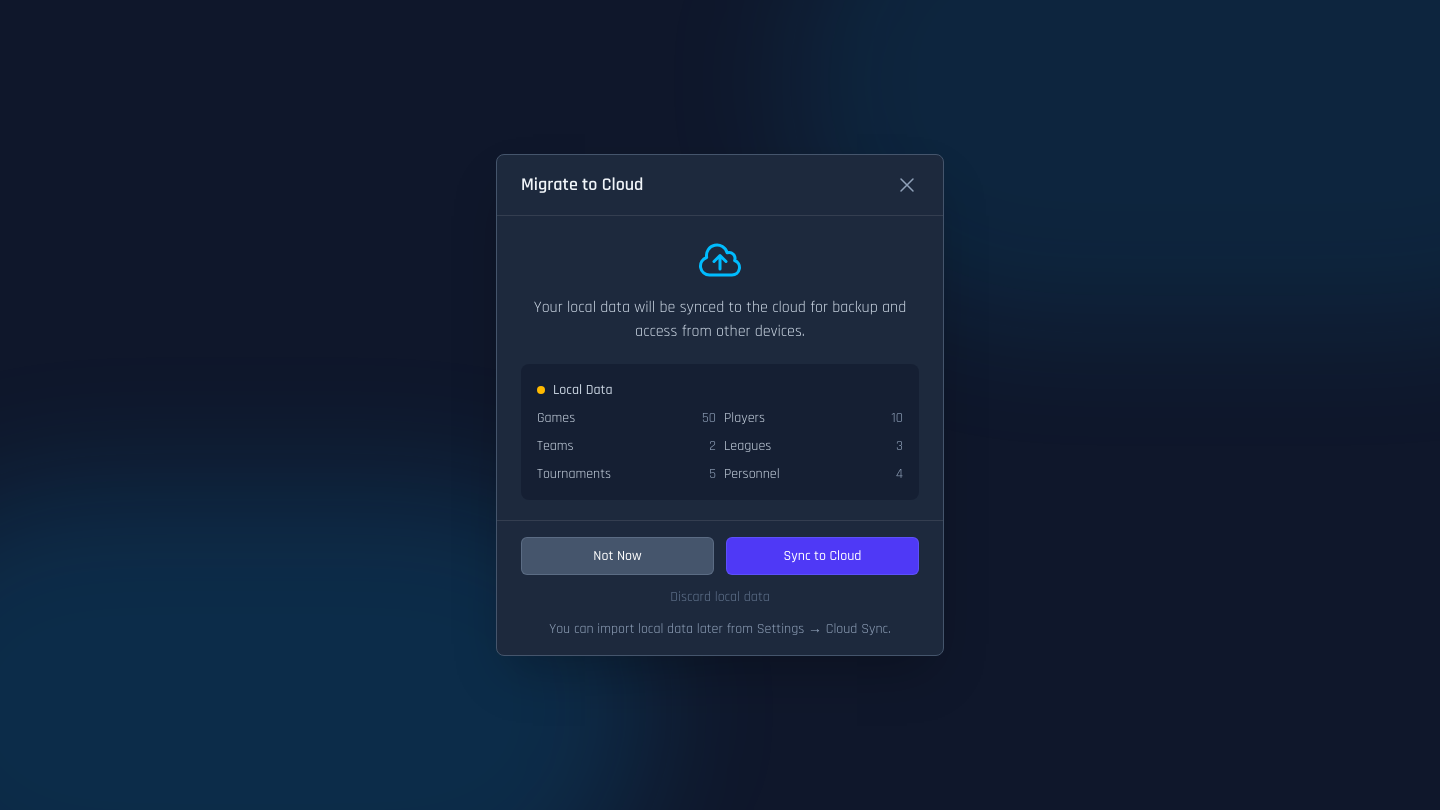
Scenario: MigrationWizard › shows complete step after successful migration
Expected: the heading "Local Data" is shown, [537,381,612,399]
Click the button "Sync to Cloud" at (822, 556), box [726,537,919,575]
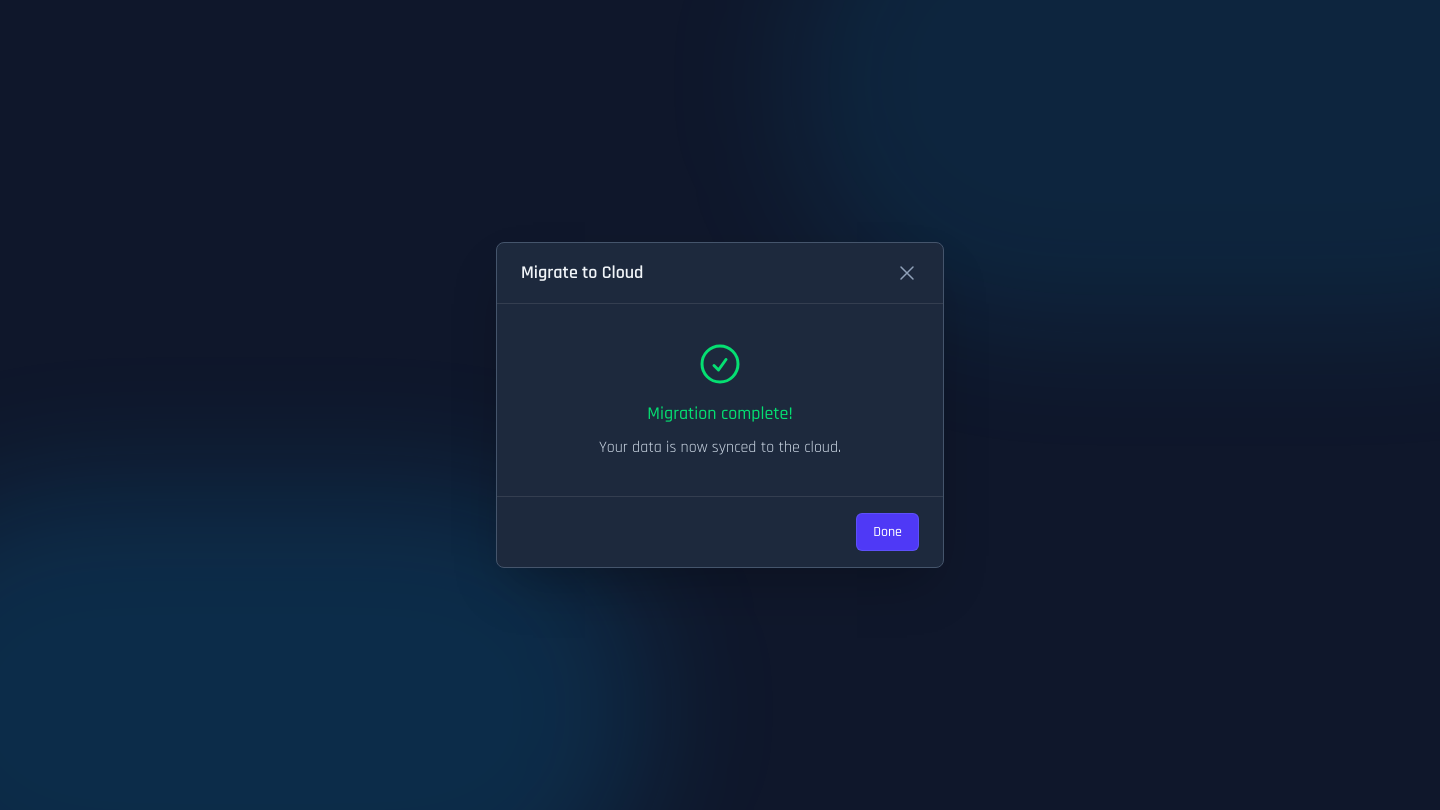
Result: the text "Migration complete!" is shown at [647,402,793,425]
Result: the button "Done" is shown at [856,513,919,551]
